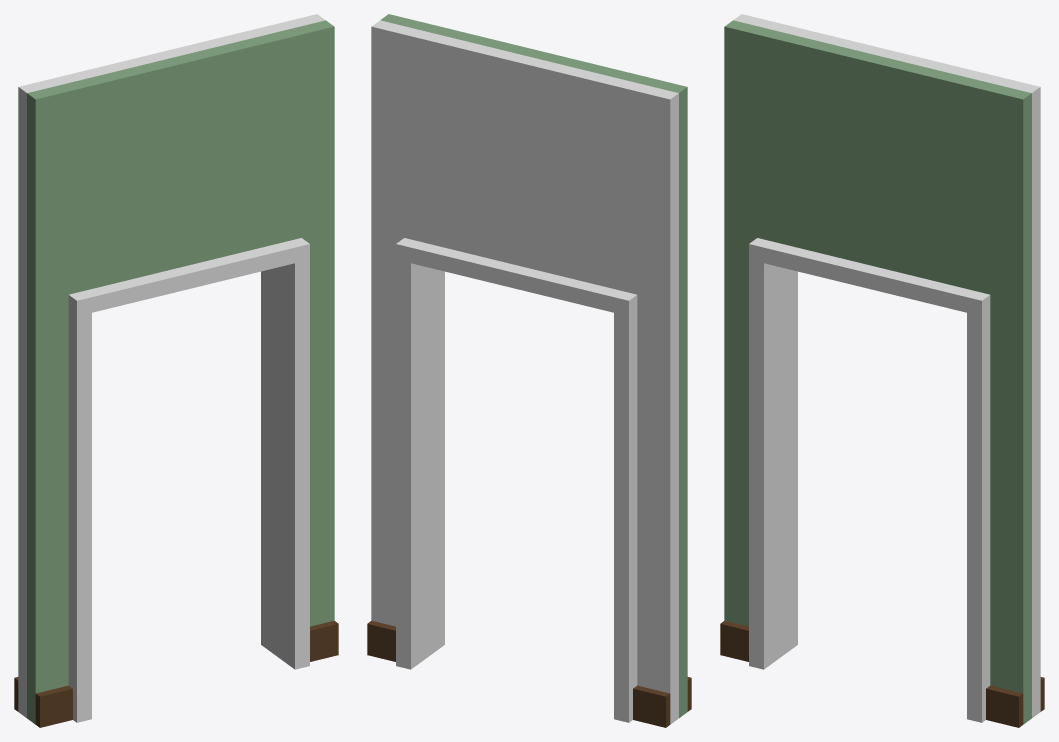
File: h_wall_1_doorFrame_multi_4.fbx
The picture shows the model from 3 angles, left to right: view 1: azimuth 30°, elevation 25°; view 2: azimuth 150°, elevation 25°; view 3: azimuth 330°, elevation 25°; orthographic projection.
Parts seen in each view (by area): view 1: Cube, DoorFrame; view 2: Cube, DoorFrame; view 3: Cube, DoorFrame.
Part boxes in pixels (bbox=[...]): Cube: bbox=[14, 14, 338, 727]; DoorFrame: bbox=[68, 238, 309, 722]; Cube: bbox=[367, 14, 691, 727]; DoorFrame: bbox=[396, 238, 637, 722]; Cube: bbox=[720, 14, 1044, 727]; DoorFrame: bbox=[749, 238, 990, 722].
Size of the model in its own units: 200 by 400 by 39.37.
